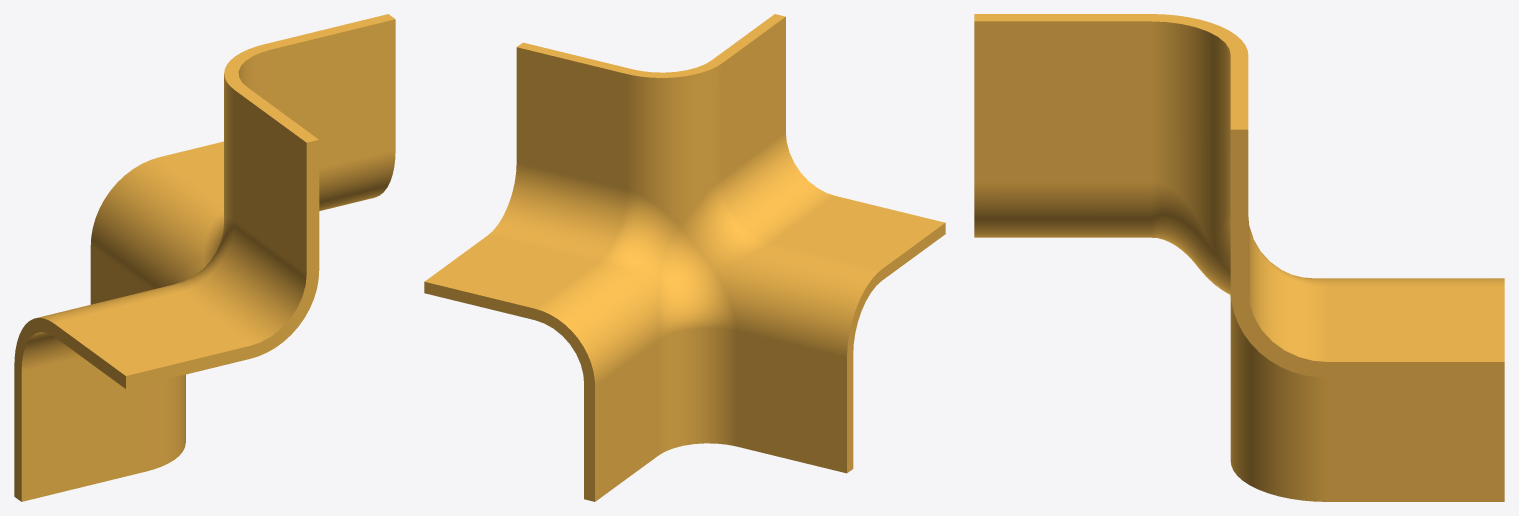
Rendered from Part_Simple_3.Fbx.
The picture shows the model from 3 angles, left to right: view 1: azimuth 30°, elevation 25°; view 2: azimuth 150°, elevation 25°; view 3: azimuth 270°, elevation 25°; orthographic projection. The views are drawn at different scales.
Visible parts, largest first — view 1: Wall; view 2: Wall; view 3: Wall.
Boxes of the visible parts, x1=… form: Wall: x1=14, y1=14, x2=395, y2=501; Wall: x1=424, y1=14, x2=945, y2=501; Wall: x1=974, y1=14, x2=1504, y2=501.
Bounding box in the file's own units: 3 × 3 × 3.
